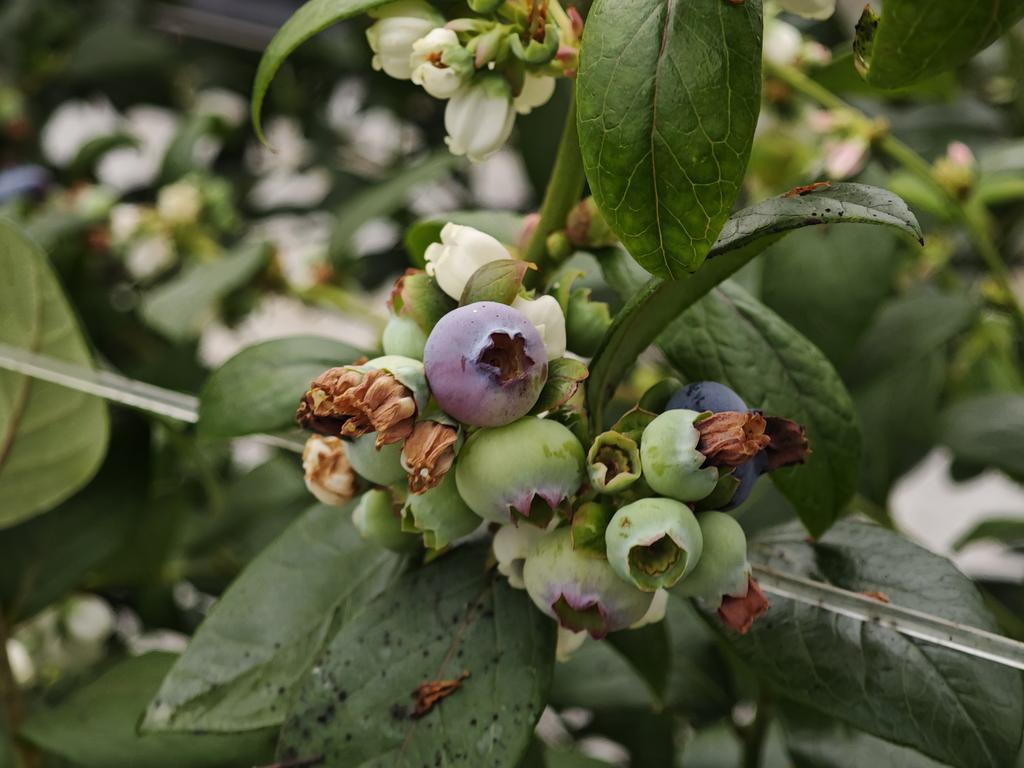Semi-RipeBlueBerry: (420, 301, 548, 427)
UnripeBlueBerry: (458, 416, 584, 530), (520, 537, 658, 635), (602, 498, 707, 591), (642, 408, 730, 501)
